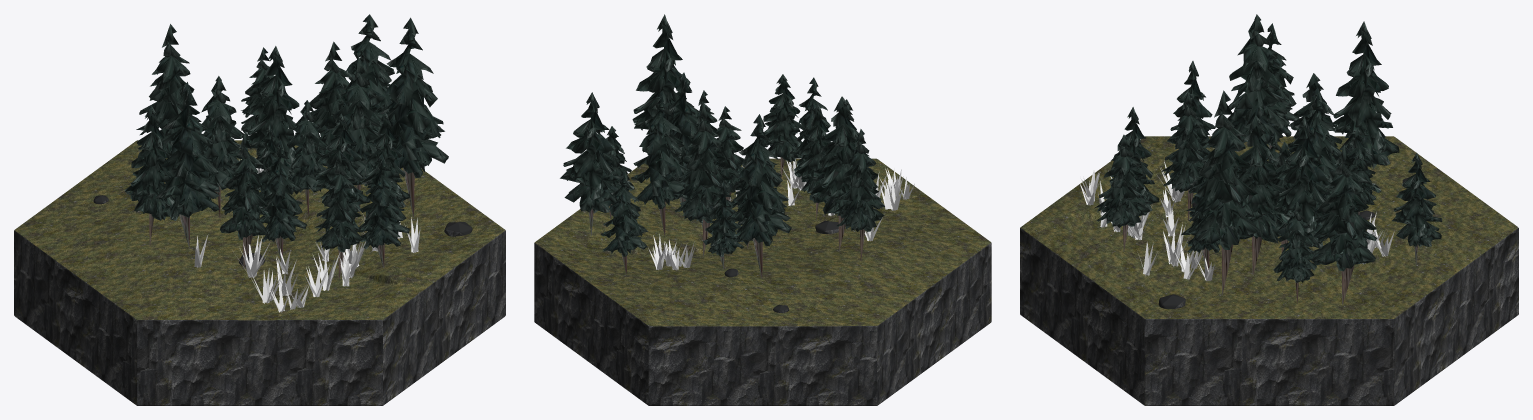
Rendered from forest_living.glb.
The picture shows the model from 3 angles, left to right: view 1: azimuth 30°, elevation 25°; view 2: azimuth 150°, elevation 25°; view 3: azimuth 270°, elevation 25°; orthographic projection. The views are drawn at different scales.
Parts seen in each view (by area): view 1: Plains tile.005, Tree Plains tile.001 16.001, Tree Plains tile.001 20.001, Tree Plains tile.001 5.001, Tree Plains tile.001 9.001, Tree Plains tile.001 13.001, Tree Plains tile.001 2.001, Tree Plains tile.001 1.001, Tree Plains tile.001 8.001, Tree Plains tile.001 17.001, Tree Plains tile.001 15.001, Tree Plains tile.001 11.001 (+7 smaller); view 2: Plains tile.005, Tree Plains tile.001 17.001, Tree Plains tile.001 6.001, Tree Plains tile.001 3.001, Tree Plains tile.001 5.001, Tree Plains tile.001 20.001, Tree Plains tile.001 9.001, Tree Plains tile.001 16.001, Tree Plains tile.001 1.001, Tree Plains tile.001 19.001, Tree Plains tile.001 14.001, Tree Plains tile.001 8.001 (+5 smaller); view 3: Plains tile.005, Tree Plains tile.001 16.001, Tree Plains tile.001 6.001, Tree Plains tile.001 17.001, Tree Plains tile.001 20.001, Tree Plains tile.001 8.001, Tree Plains tile.001 3.001, Tree Plains tile.001 1.001, Tree Plains tile.001 19.001, Tree Plains tile.001 15.001, Tree Plains tile.001 18.001, Tree Plains tile.001 5.001 (+7 smaller).
Boxes of the visible parts, x1,y1,x2,y2 form: Plains tile.005: (14,140,505,405); Tree Plains tile.001 16.001: (372,17,448,218); Tree Plains tile.001 20.001: (155,82,219,247); Tree Plains tile.001 5.001: (247,46,299,172); Tree Plains tile.001 9.001: (124,106,174,247); Tree Plains tile.001 13.001: (220,131,270,269); Tree Plains tile.001 2.001: (201,76,248,220); Tree Plains tile.001 1.001: (355,154,409,267); Tree Plains tile.001 8.001: (325,57,383,213); Tree Plains tile.001 17.001: (136,24,199,157); Tree Plains tile.001 15.001: (258,139,306,260); Tree Plains tile.001 11.001: (314,151,363,279); Plains tile.005: (534,152,991,405); Tree Plains tile.001 17.001: (726,114,791,279); Tree Plains tile.001 6.001: (560,92,622,236); Tree Plains tile.001 3.001: (631,90,688,236); Tree Plains tile.001 5.001: (672,103,733,256); Tree Plains tile.001 20.001: (808,96,872,251); Tree Plains tile.001 9.001: (834,129,884,261); Tree Plains tile.001 16.001: (632,14,690,152); Tree Plains tile.001 1.001: (763,74,804,178); Tree Plains tile.001 19.001: (600,171,648,274); Tree Plains tile.001 14.001: (703,182,743,269); Tree Plains tile.001 8.001: (664,72,700,211); Plains tile.005: (1020,136,1518,405); Tree Plains tile.001 16.001: (1186,90,1260,295); Tree Plains tile.001 6.001: (1312,145,1376,304); Tree Plains tile.001 17.001: (1333,21,1399,168); Tree Plains tile.001 20.001: (1227,14,1292,146); Tree Plains tile.001 8.001: (1236,115,1289,275); Tree Plains tile.001 3.001: (1274,117,1331,247); Tree Plains tile.001 1.001: (1094,134,1150,251); Tree Plains tile.001 19.001: (1392,153,1442,264); Tree Plains tile.001 15.001: (1161,92,1208,221); Tree Plains tile.001 18.001: (1273,201,1317,303); Tree Plains tile.001 5.001: (1295,87,1341,248).
Bounding box in the file's own units: 1.7 × 1.25 × 1.96.
Materials: 4 (3 with a texture image).
